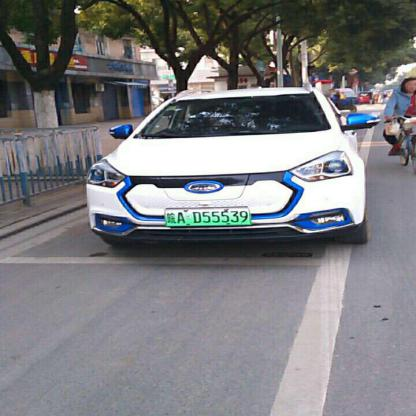lp: (166, 207, 252, 225)
